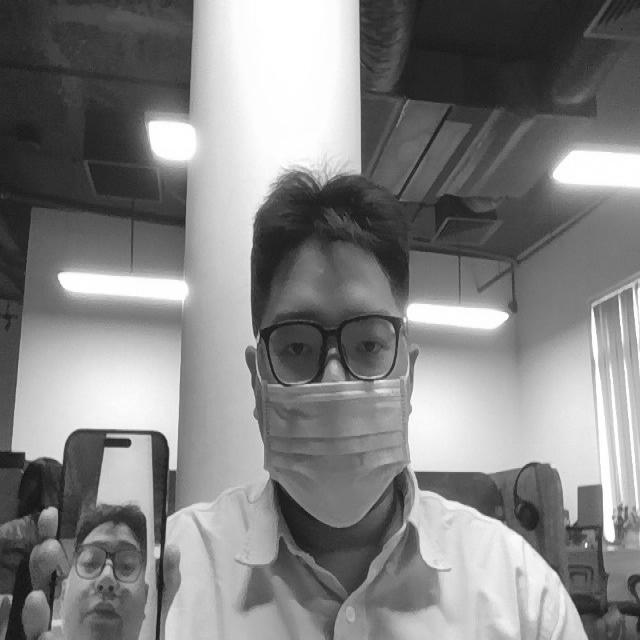fake: (37, 412, 179, 640), (257, 373, 414, 532), (61, 497, 153, 640)
real: (224, 157, 431, 547), (261, 308, 412, 379)
